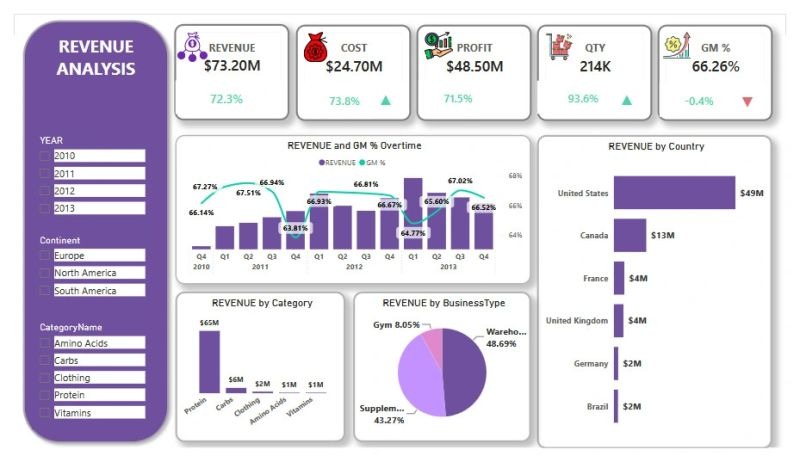

This screenshot's page, from the dashboard's own definition file:
{"tool":"powerbi","page":{"name":"REVENUE","canvas":[1280,720],"ordinal":0},"visuals":[{"type":"shape","box":[4.8,0,260.3,720.6],"z":0},{"type":"lineClusteredColumnComboChart","title":"REVENUE and GM % Overtime","fields":{"Category":["CALENDER Table.YEAR","CALENDER Table.QUARTER"],"Y":["CALCULATIONS.REVENUE"],"Y2":["CALCULATIONS.GM %"]},"box":[266.7,200,590.5,247.6],"z":1000},{"type":"clusteredBarChart","title":"REVENUE by Country","fields":{"Y":["CALCULATIONS.REVENUE"],"Category":["Customer.CountryName"]},"box":[866.7,200,390.5,509.5],"z":2000},{"type":"clusteredColumnChart","fields":{"Category":["Product.CategoryName"],"Y":["CALCULATIONS.REVENUE"]},"box":[266.7,460.3,282.5,249.2],"z":3000},{"type":"pieChart","fields":{"Y":["CALCULATIONS.REVENUE"],"Category":["Customer.BusinessType"]},"box":[561.9,460.3,295.2,249.2],"z":4000},{"type":"slicer","fields":{"Values":["CALENDER Table.YEAR"]},"box":[28.6,195.2,193.7,165.1],"z":5000},{"type":"slicer","fields":{"Values":["Customer.Continent"]},"box":[28.6,360.3,193.7,138.1],"z":6000},{"type":"cardVisual","fields":{"Data":["CALCULATIONS.REVENUE"]},"box":[265.1,15.9,190.5,160.3],"z":7000},{"type":"cardVisual","fields":{"Data":["CALCULATIONS.COST"]},"box":[466.7,17.5,191,160],"z":8000},{"type":"cardVisual","fields":{"Data":["CALCULATIONS.PROFIT"]},"box":[666.7,17.5,191,160],"z":9000},{"type":"cardVisual","fields":{"Data":["CALCULATIONS.QTY"]},"box":[866.7,17.5,191,160],"z":10000},{"type":"cardVisual","fields":{"Data":["CALCULATIONS.GM %"]},"box":[1066.7,17.5,191,160],"z":11000},{"type":"slicer","fields":{"Values":["Product.CategoryName"]},"box":[28.6,504.8,193.7,184.1],"z":12000},{"type":"image","box":[266.7,28.6,55.6,50.8],"z":13000},{"type":"image","box":[466.7,28.6,63.5,50.8],"z":14000},{"type":"image","box":[677.8,28.6,52.4,46],"z":15000},{"type":"image","box":[866.7,28.6,74.6,50.8],"z":16000},{"type":"image","box":[1066.7,27,63.5,47.6],"z":17000},{"type":"cardVisual","fields":{"Data":["CALCULATIONS.ARROW (REVENUE)"]},"box":[369.8,109.5,85.7,63.5],"z":18000},{"type":"cardVisual","fields":{"Data":["CALCULATIONS.ARROW (GM)"]},"box":[1171.4,109.5,85.7,63.5],"z":19000},{"type":"cardVisual","fields":{"Data":["CALCULATIONS.ARROW (QTY)"]},"box":[971.4,109.5,85.7,63.5],"z":20000},{"type":"cardVisual","fields":{"Data":["CALCULATIONS.ARROW (PROFIT)"]},"box":[771.4,109.5,85.7,63.5],"z":21000},{"type":"cardVisual","fields":{"Data":["CALCULATIONS.ARROW (COST)"]},"box":[571.4,109.5,85.7,63.5],"z":22000},{"type":"cardVisual","fields":{"Data":["CALCULATIONS.VAR % (REVENUE)"]},"box":[266.7,109.5,141.3,55.6],"z":23000},{"type":"cardVisual","fields":{"Data":["CALCULATIONS.VAR % (GM)"]},"box":[1069.8,112.7,119,57.1],"z":24000},{"type":"cardVisual","fields":{"Data":["CALCULATIONS.VAR % (QTY)"]},"box":[866.7,109.5,131.7,55.6],"z":25000},{"type":"cardVisual","fields":{"Data":["CALCULATIONS.VAR % (PROFIT)"]},"box":[669.8,109.5,130.2,55.6],"z":26000},{"type":"cardVisual","fields":{"Data":["CALCULATIONS.VAR % (COST)"]},"box":[479.4,112.7,123.8,57.1],"z":27000},{"type":"actionButton","box":[34.9,28.6,200,144.4],"z":28000}]}

Visuals, with their boxes in screenshot pixels (x1, y1, x2, y2), scaled from the page's 1280x720 canvas onto the 800x462 screenshot:
shape: [x1=3, y1=0, x2=166, y2=461]
"REVENUE and GM % Overtime" lineClusteredColumnComboChart: [x1=167, y1=128, x2=536, y2=287]
"REVENUE by Country" clusteredBarChart: [x1=542, y1=128, x2=786, y2=455]
clusteredColumnChart - Product.CategoryName x CALCULATIONS.REVENUE: [x1=167, y1=295, x2=343, y2=455]
pieChart - CALCULATIONS.REVENUE x Customer.BusinessType: [x1=351, y1=295, x2=536, y2=455]
slicer - CALENDER Table.YEAR: [x1=18, y1=125, x2=139, y2=231]
slicer - Customer.Continent: [x1=18, y1=231, x2=139, y2=320]
cardVisual - CALCULATIONS.REVENUE: [x1=166, y1=10, x2=285, y2=113]
cardVisual - CALCULATIONS.COST: [x1=292, y1=11, x2=411, y2=114]
cardVisual - CALCULATIONS.PROFIT: [x1=417, y1=11, x2=536, y2=114]
cardVisual - CALCULATIONS.QTY: [x1=542, y1=11, x2=661, y2=114]
cardVisual - CALCULATIONS.GM %: [x1=667, y1=11, x2=786, y2=114]
slicer - Product.CategoryName: [x1=18, y1=324, x2=139, y2=442]
image: [x1=167, y1=18, x2=201, y2=51]
image: [x1=292, y1=18, x2=331, y2=51]
image: [x1=424, y1=18, x2=456, y2=48]
image: [x1=542, y1=18, x2=588, y2=51]
image: [x1=667, y1=17, x2=706, y2=48]
cardVisual - CALCULATIONS.ARROW (REVENUE): [x1=231, y1=70, x2=285, y2=111]
cardVisual - CALCULATIONS.ARROW (GM): [x1=732, y1=70, x2=786, y2=111]
cardVisual - CALCULATIONS.ARROW (QTY): [x1=607, y1=70, x2=661, y2=111]
cardVisual - CALCULATIONS.ARROW (PROFIT): [x1=482, y1=70, x2=536, y2=111]
cardVisual - CALCULATIONS.ARROW (COST): [x1=357, y1=70, x2=411, y2=111]
cardVisual - CALCULATIONS.VAR % (REVENUE): [x1=167, y1=70, x2=255, y2=106]
cardVisual - CALCULATIONS.VAR % (GM): [x1=669, y1=72, x2=743, y2=109]
cardVisual - CALCULATIONS.VAR % (QTY): [x1=542, y1=70, x2=624, y2=106]
cardVisual - CALCULATIONS.VAR % (PROFIT): [x1=419, y1=70, x2=500, y2=106]
cardVisual - CALCULATIONS.VAR % (COST): [x1=300, y1=72, x2=377, y2=109]
actionButton: [x1=22, y1=18, x2=147, y2=111]
